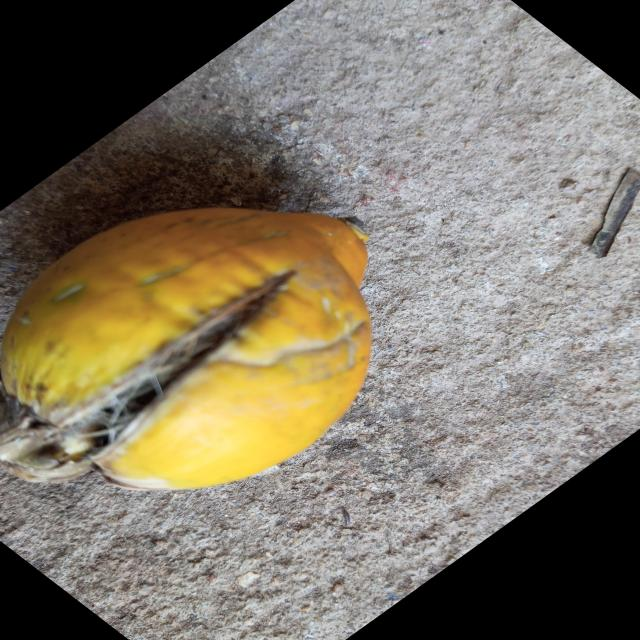damaged: (0, 208, 371, 490)
